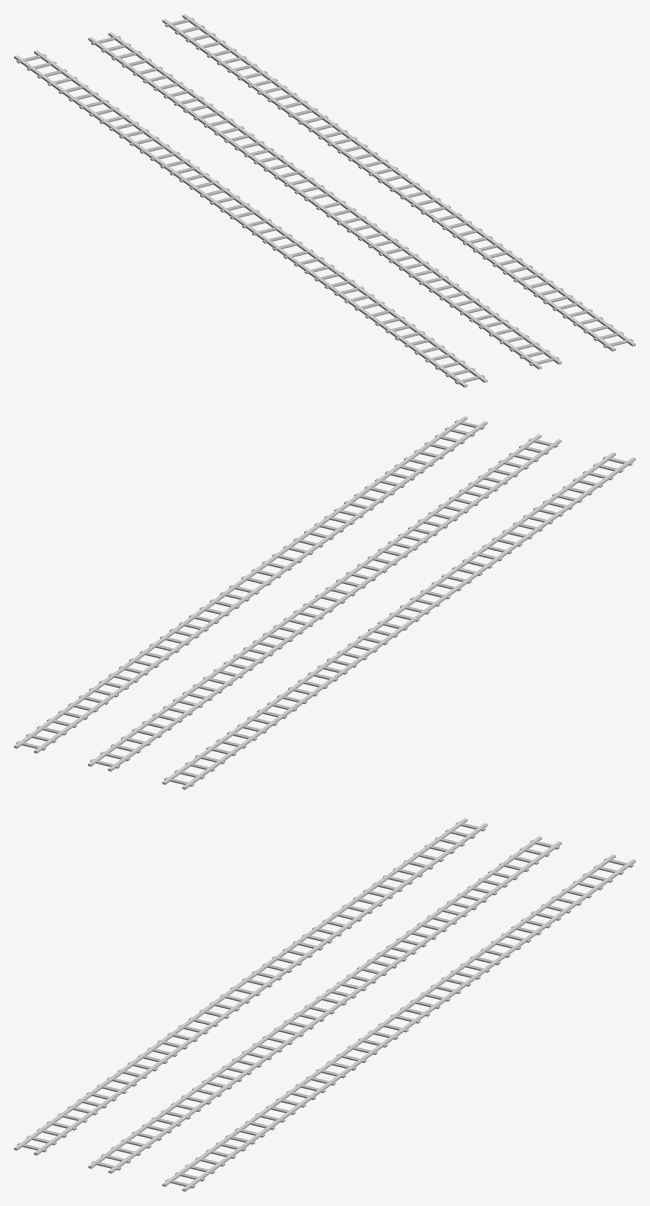
Rendered from Rail_A_001.fbx.
The picture shows the model from 3 angles, top to bottom: view 1: azimuth 30°, elevation 25°; view 2: azimuth 150°, elevation 25°; view 3: azimuth 330°, elevation 25°; orthographic projection.
Visible parts, largest first — view 1: Rail_A_001; view 2: Rail_A_001; view 3: Rail_A_001.
Boxes of the visible parts, x1,y1,x2,y2 form: Rail_A_001: (14,14,635,387); Rail_A_001: (14,416,635,789); Rail_A_001: (14,818,635,1191).
Bounding box in the file's own units: 935 × 10.41 × 4147.
4 materials, 4 textured.
